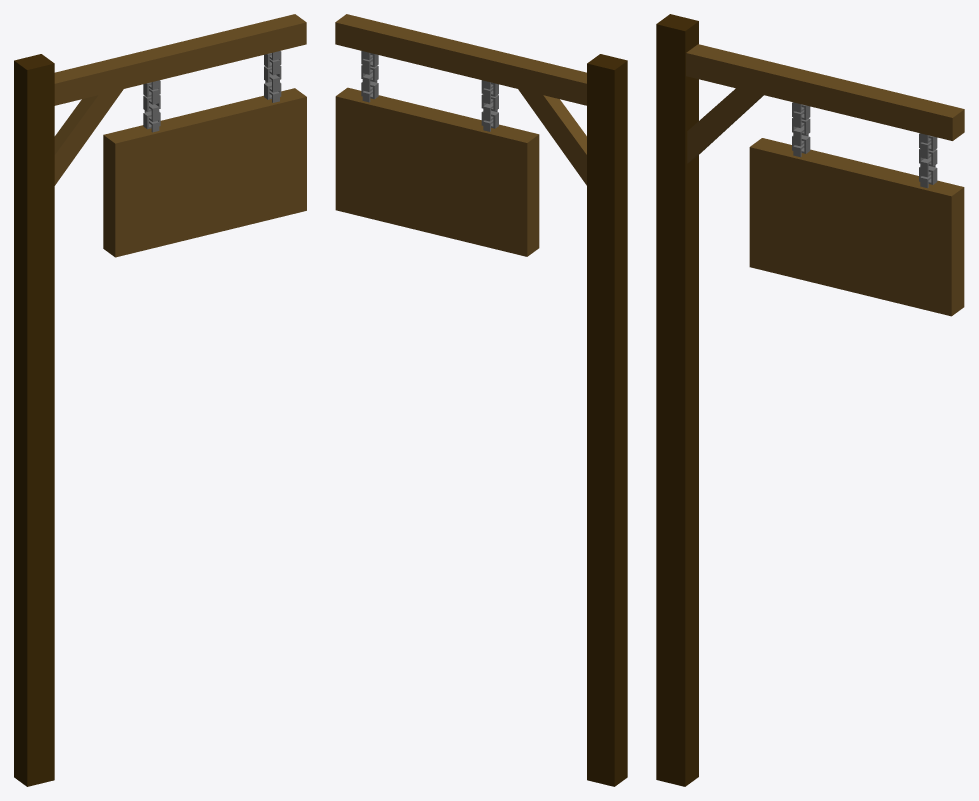
The model's file is mesh_post_with_sign.fbx.
3 views of the same model, side by side, from view 1: azimuth 30°, elevation 25°; view 2: azimuth 150°, elevation 25°; view 3: azimuth 330°, elevation 25° (orthographic). The views are drawn at different scales.
Visible parts, largest first — view 1: post_with_sign; view 2: post_with_sign; view 3: post_with_sign.
Boxes of the visible parts, box(x1,y1,x2,y2) form: post_with_sign: box(14, 14, 306, 786); post_with_sign: box(335, 14, 627, 786); post_with_sign: box(656, 14, 964, 786).
Bounding box in the file's own units: 132 × 323 × 10.79.
Materials: 1 (1 with a texture image).
